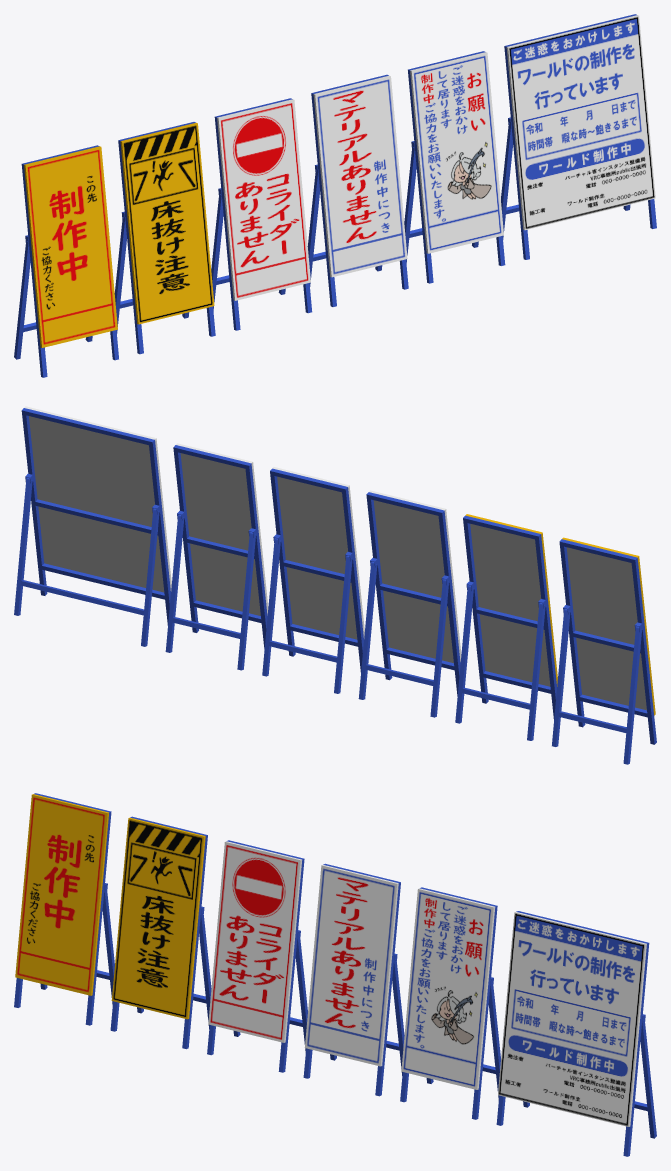
The picture shows the model from 3 angles, top to bottom: view 1: azimuth 30°, elevation 25°; view 2: azimuth 150°, elevation 25°; view 3: azimuth 330°, elevation 25°; orthographic projection.
Visible parts, largest first — view 1: パネル_大, パネル_小.000, パネル_小.003, パネル_小.002, パネル_小.001, パネル_小.004, 脚, 脚.004, 脚.002, 脚.001, 脚.003, 脚.005; view 2: パネル_大, パネル_小.000, パネル_小.002, パネル_小.004, パネル_小.001, パネル_小.003, 脚.005, 脚.002, 脚.004, 脚.001, 脚, 脚.003; view 3: パネル_大, パネル_小.000, パネル_小.002, パネル_小.003, パネル_小.001, パネル_小.004, 脚.005, 脚.001, 脚.002, 脚.003, 脚.004, 脚.
Part boxes in pixels (x1,y1,x2,y2): パネル_大: (504, 14, 656, 259); パネル_小.000: (21, 145, 118, 377); パネル_小.003: (311, 74, 408, 306); パネル_小.002: (214, 98, 312, 330); パネル_小.001: (118, 122, 215, 354); パネル_小.004: (408, 51, 505, 283); 脚: (14, 243, 92, 359); 脚.004: (404, 148, 478, 263); 脚.002: (211, 196, 285, 310); 脚.001: (114, 219, 189, 333); 脚.003: (307, 172, 382, 286); 脚.005: (501, 125, 630, 239); パネル_大: (21, 406, 171, 625); パネル_小.000: (559, 537, 656, 744); パネル_小.002: (366, 490, 461, 696); パネル_小.004: (173, 443, 268, 649); パネル_小.001: (463, 514, 557, 719); パネル_小.003: (270, 467, 364, 671); 脚.005: (14, 477, 159, 646); 脚.002: (358, 561, 448, 717); 脚.004: (165, 514, 255, 670); 脚.001: (455, 585, 545, 740); 脚: (552, 608, 641, 764); 脚.003: (262, 538, 352, 693); パネル_大: (496, 911, 649, 1156); パネル_小.000: (14, 793, 111, 1025); パネル_小.002: (207, 840, 304, 1072); パネル_小.003: (303, 863, 400, 1096); パネル_小.001: (110, 816, 207, 1049); パネル_小.004: (400, 887, 497, 1119); 脚.005: (523, 1022, 656, 1138); 脚.001: (137, 914, 211, 1028); 脚.002: (233, 938, 307, 1052); 脚.003: (330, 961, 404, 1075); 脚.004: (426, 985, 500, 1100); 脚: (40, 890, 114, 1004).
Bounding box in the file's own units: 4.46 × 1.39 × 0.3689.
